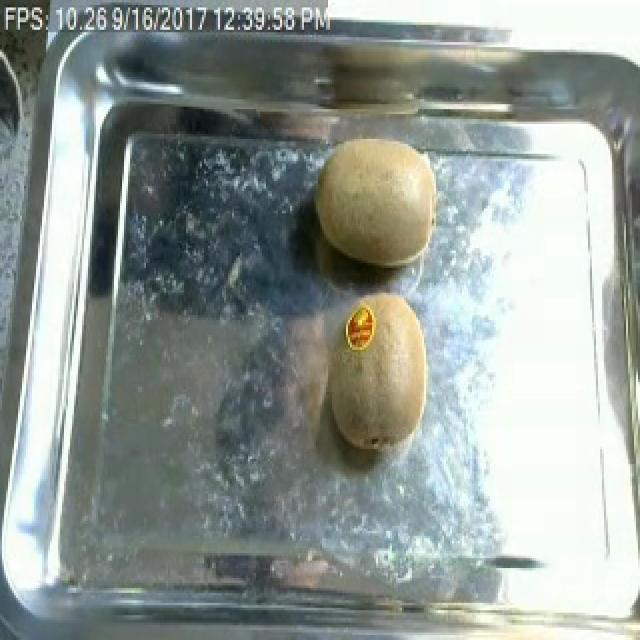Fruit: (318, 286, 438, 462), (304, 129, 446, 273)
